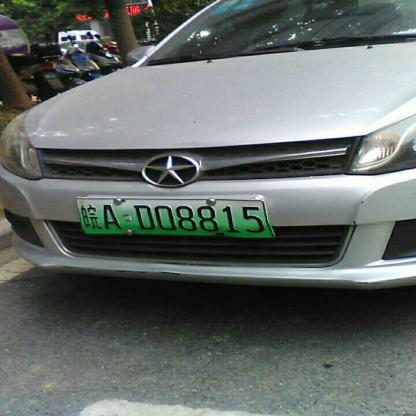lp: (76, 197, 276, 236)
